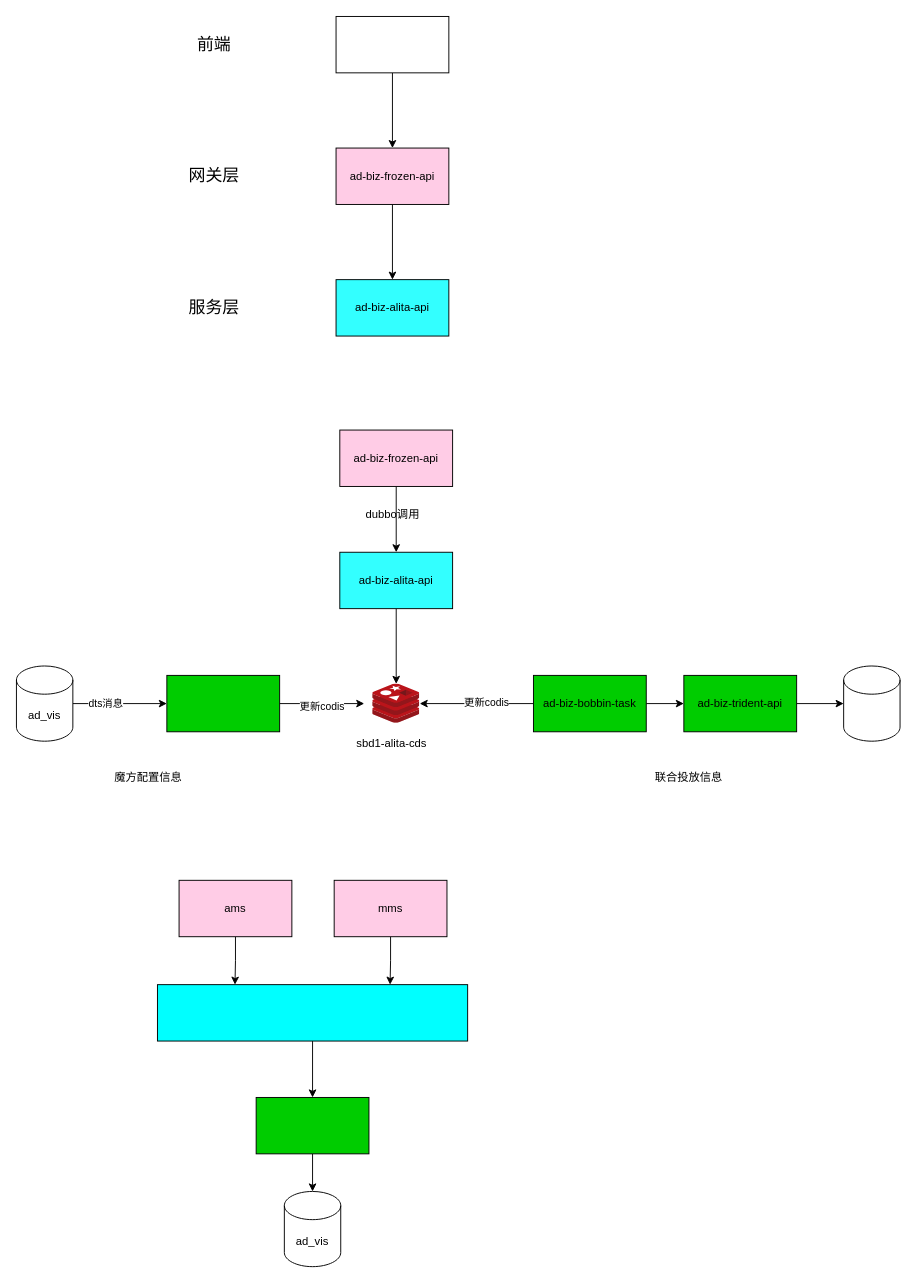
Some shapes in this 917 by 1283 pixel diagram are drawn without their labels. Here are the shapes that lost their labels. From the top down, the centre of each, then its label:
At [392,44]: "魔方前端（c端）".
At [223,703]: "ad-biz-bobbin-api".
At [871,703]: "ad_pl".
At [312,1012]: "mikasa".
At [312,1125]: "ad-biz-magic-api".
